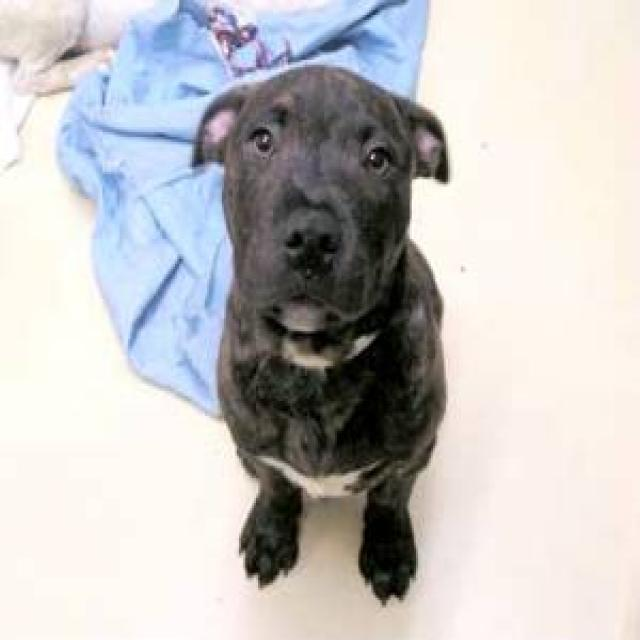dog-american_pit_bull_terrier: (183, 52, 461, 605)
